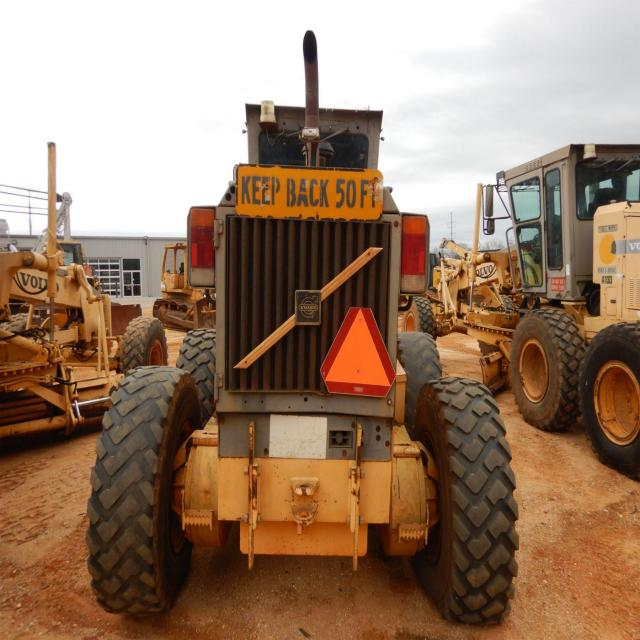Grader: (70, 17, 532, 619)
